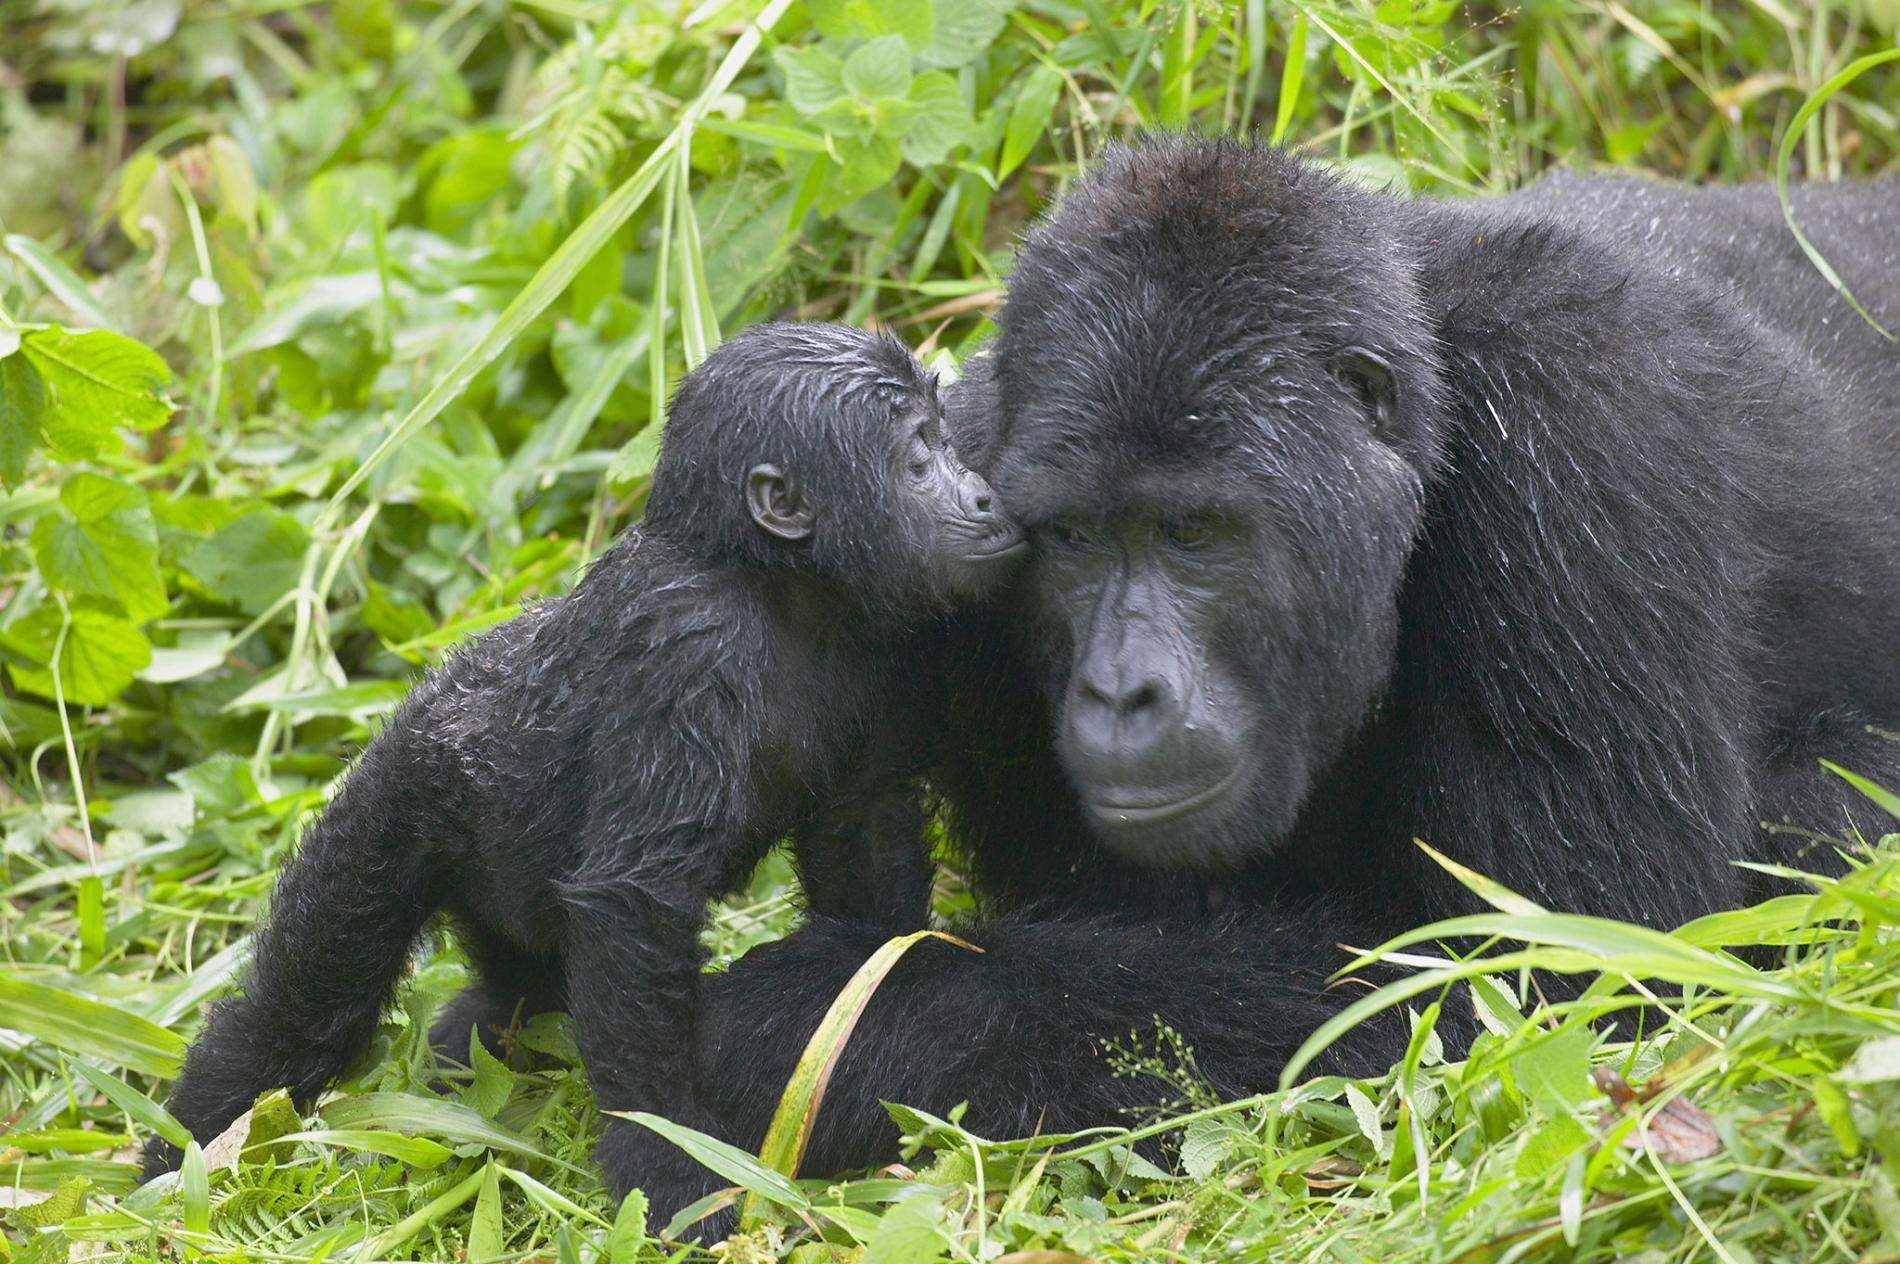Goriila: (989, 109, 1815, 1124), (333, 303, 1031, 1064)
